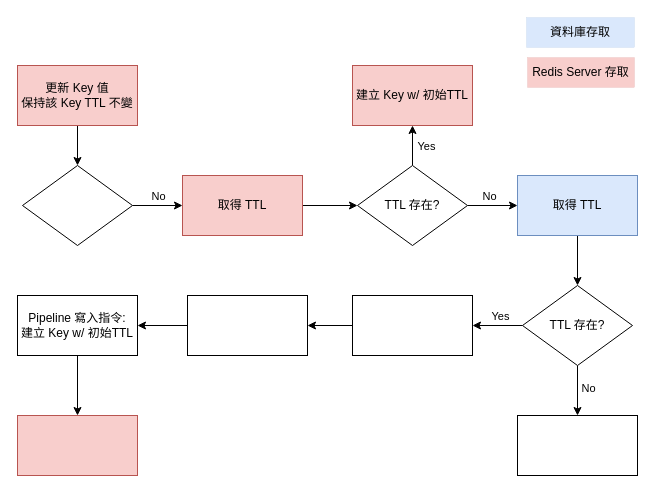
This 655x493 diagram has some shape labels left out. The shapes that lost their labels are listed below. From the top down, each one's centre as x and y in pixels, then its label:
pixel 77 205: Key 存在?
pixel 247 325: Pipeline 寫入指令: 建立 TTL Key
pixel 412 325: 建立 Redis Pipeline
pixel 77 445: 執行 Redis Pipeline
pixel 577 445: Raise Error
